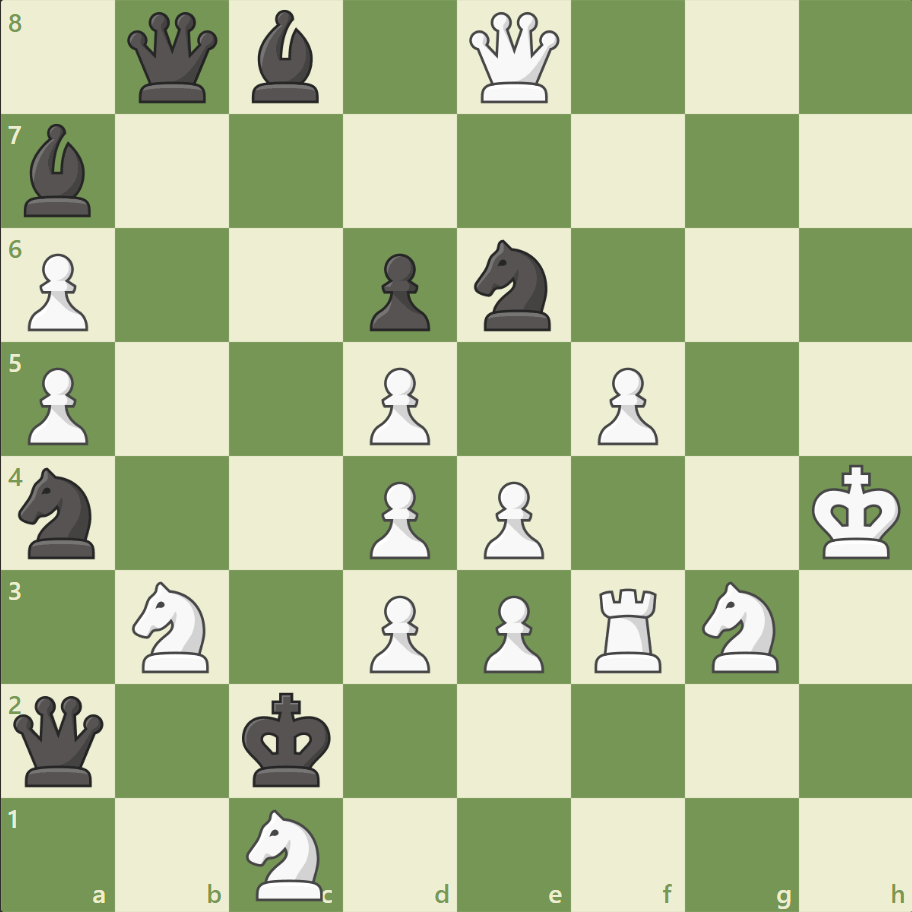K: (806, 458, 906, 566)
N: (124, 575, 222, 677), (692, 575, 789, 677), (238, 802, 335, 904)
P: (20, 246, 95, 337), (20, 359, 95, 450), (474, 473, 549, 564), (474, 586, 549, 677), (361, 359, 435, 450), (588, 359, 662, 450), (361, 473, 435, 564), (361, 586, 435, 677)
Q: (464, 9, 563, 108)
R: (587, 579, 670, 676)
b: (244, 6, 328, 109), (17, 120, 101, 222)
k: (238, 685, 338, 793)
n: (465, 234, 562, 337), (11, 461, 108, 564)
p: (361, 246, 435, 337)
q: (124, 9, 223, 108), (10, 690, 109, 789)
